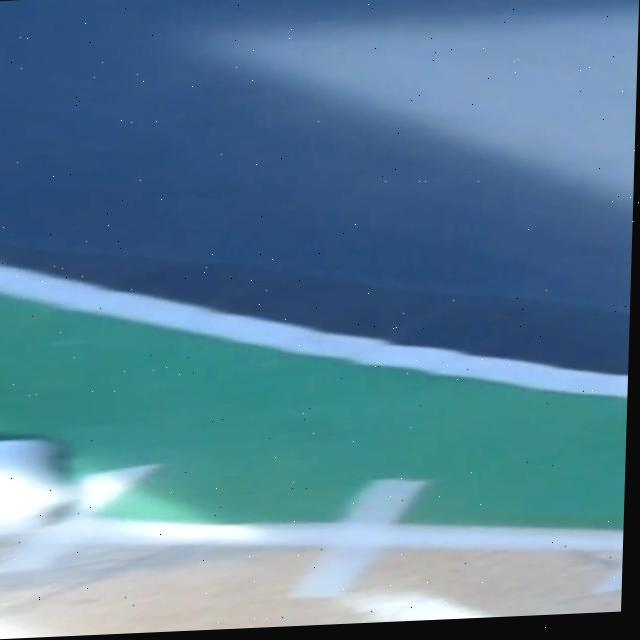right: (0, 262, 628, 397)
